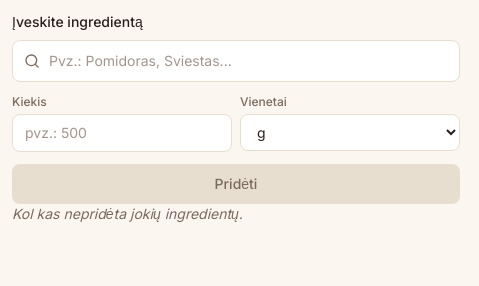
Test: Integracinis testas 1: Ingrediento pridėjimas ir atvaizdavimas (IngredientInput → IngredientList) › 1 atvejis: pridėtas ingredientas atsiranda IngredientList sąraše
The width and height of the screenshot is (479, 286).
Type "Pomid" into the dropdown labelled "Įveskite ingredientą" at (236, 61), box [12,40,460,82]
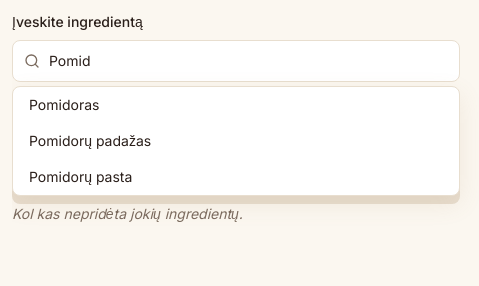
Press the mouse on the option "Pomidoras" at (64, 104), box [29,96,99,113]
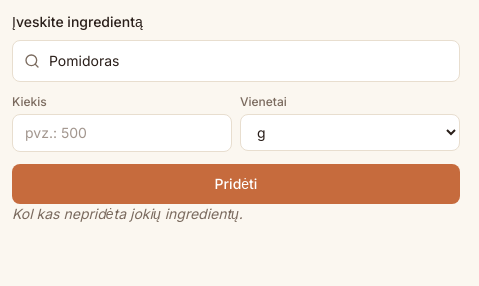
Click the button "Pridėti" at (236, 184), box [12,164,460,204]
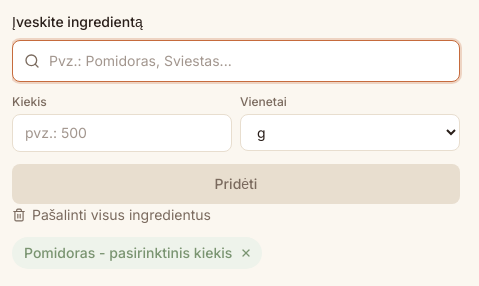
Result: the button "Pomidoras - pasirinktinis kiekis" is shown at [24,243,232,263]
